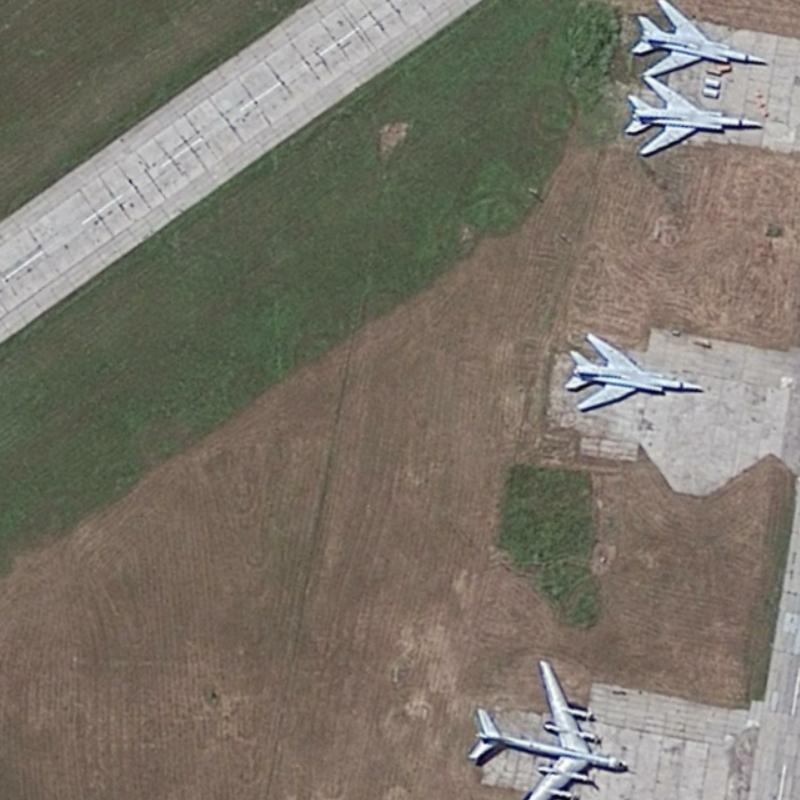A12: (621, 72, 766, 157), (561, 329, 704, 412), (627, 0, 769, 78)
A17: (464, 656, 629, 799)
